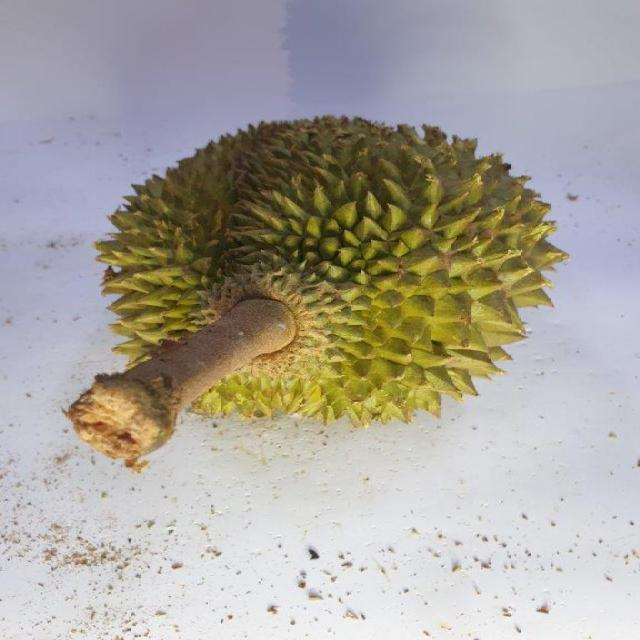immature: (104, 114, 566, 434)
